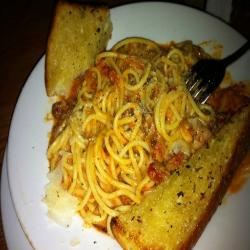bolonese_pasta: (51, 47, 212, 215)
bread: (118, 103, 248, 250)
